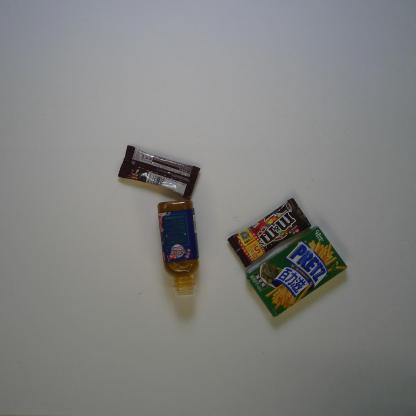Chocolate: (226, 197, 312, 268), (116, 144, 202, 201)
Dessert: (244, 225, 349, 319)
Drink: (157, 196, 201, 299)
